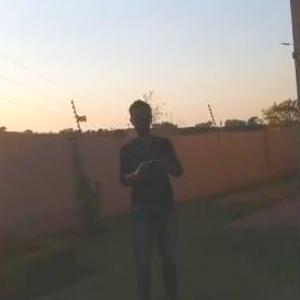follow: (115, 95, 189, 299)
